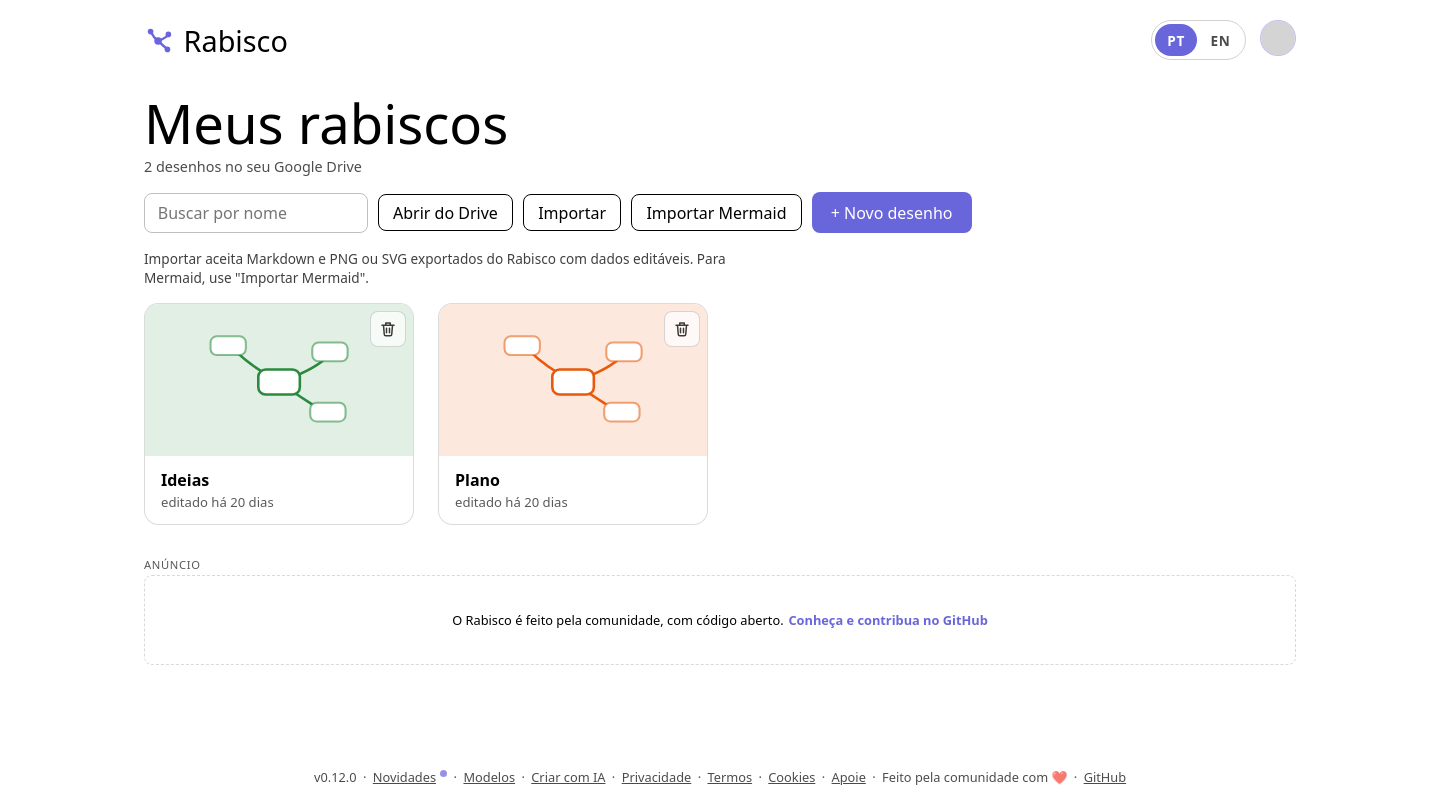
Test: deleting a drawing › keeps everything when the person cancels
The image size is (1440, 810).
Click the button named "Apagar “Plano”" at (682, 329), box [664,311,700,347]
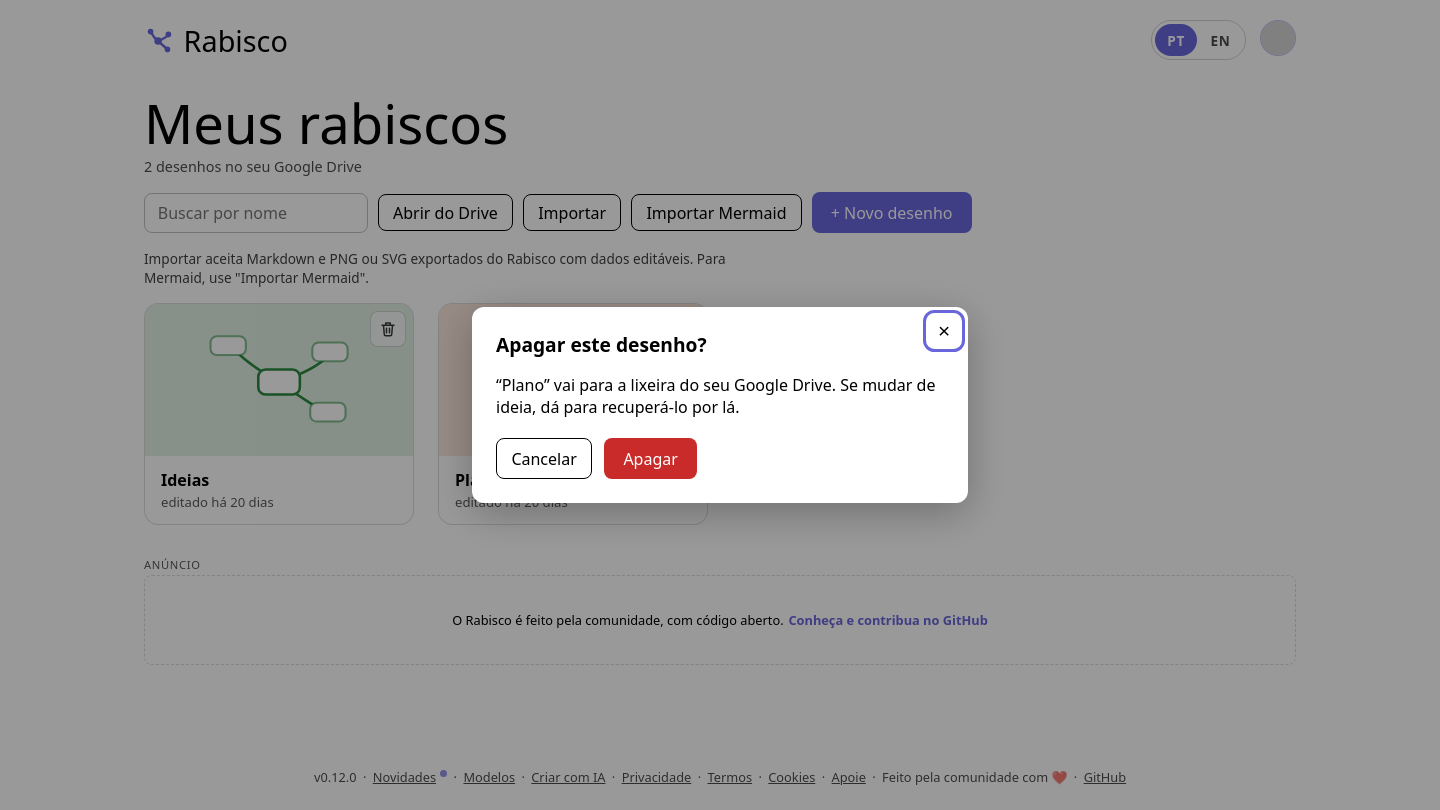
Click the button "Cancelar" at (544, 458), box [496,438,592,479]
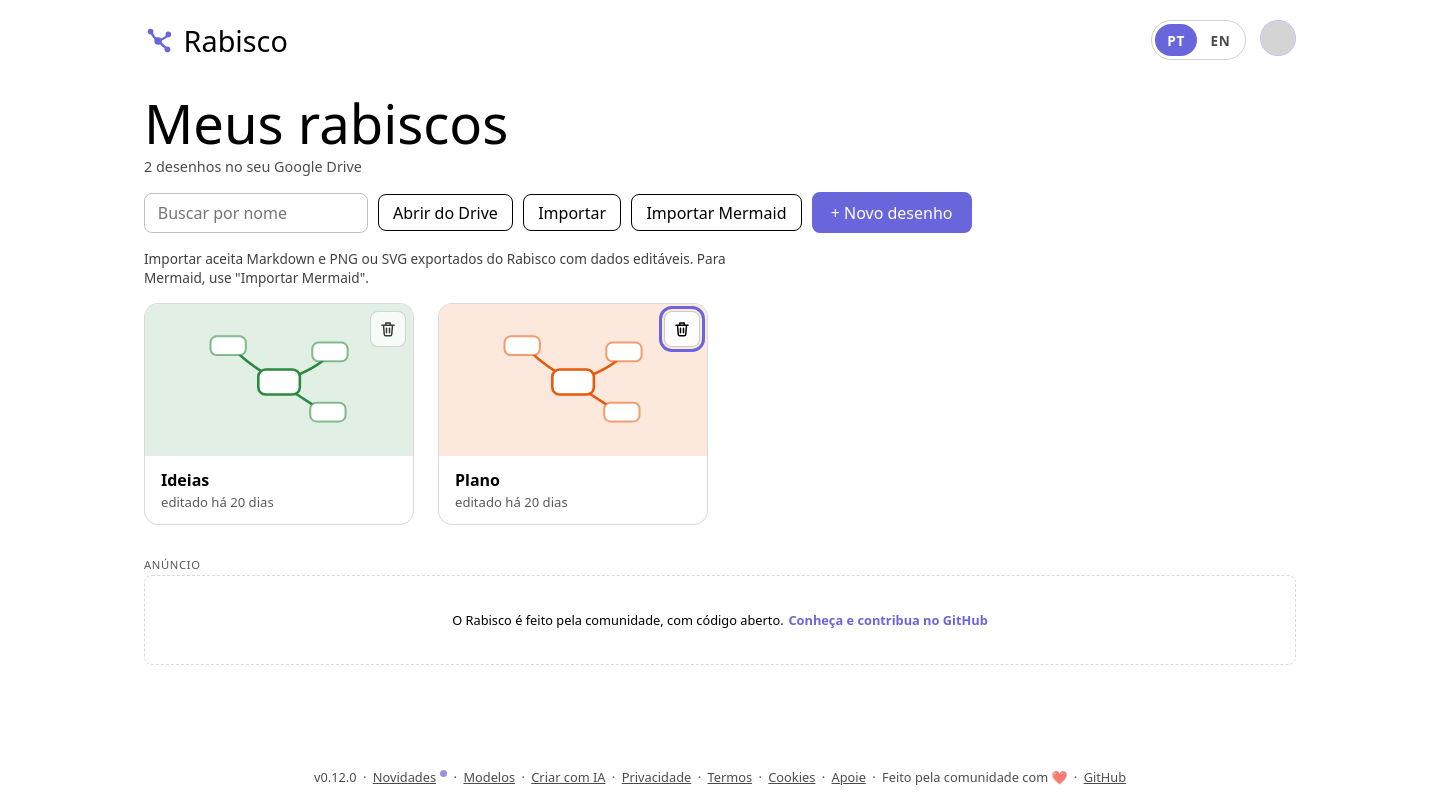
Expected: the link "Plano editado há 20 dias" is shown, [438,303,708,525]
Expected: the dialog is gone
